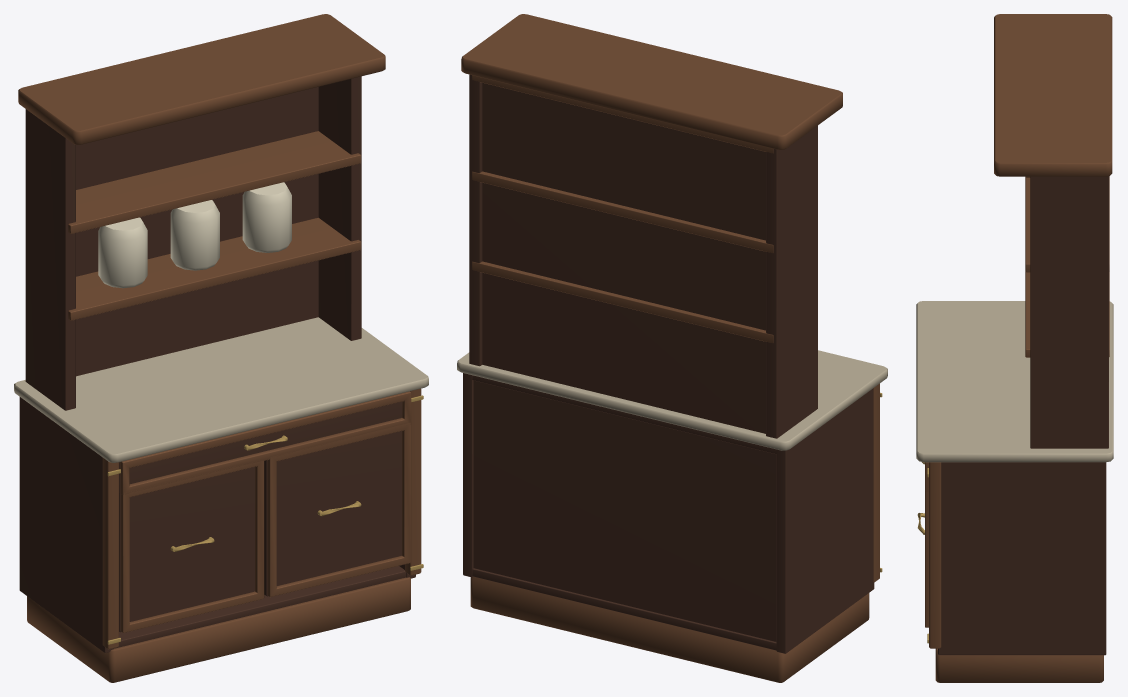
File: rpg-mansion-kitchen-baking-dresser-1200-01.glb
The picture shows the model from 3 angles, left to right: view 1: azimuth 30°, elevation 25°; view 2: azimuth 150°, elevation 25°; view 3: azimuth 270°, elevation 25°; orthographic projection. The views are drawn at different scales.
Visible parts, largest first — view 1: rpg-mansion-kitchen-baking-dresser-1200-01; view 2: rpg-mansion-kitchen-baking-dresser-1200-01; view 3: rpg-mansion-kitchen-baking-dresser-1200-01.
Boxes of the visible parts, box(x1,y1,x2,y2) form: rpg-mansion-kitchen-baking-dresser-1200-01: box(14, 14, 428, 682); rpg-mansion-kitchen-baking-dresser-1200-01: box(457, 14, 887, 682); rpg-mansion-kitchen-baking-dresser-1200-01: box(916, 14, 1113, 682).
Bounding box in the file's own units: 1.2 × 1.9 × 0.65.
